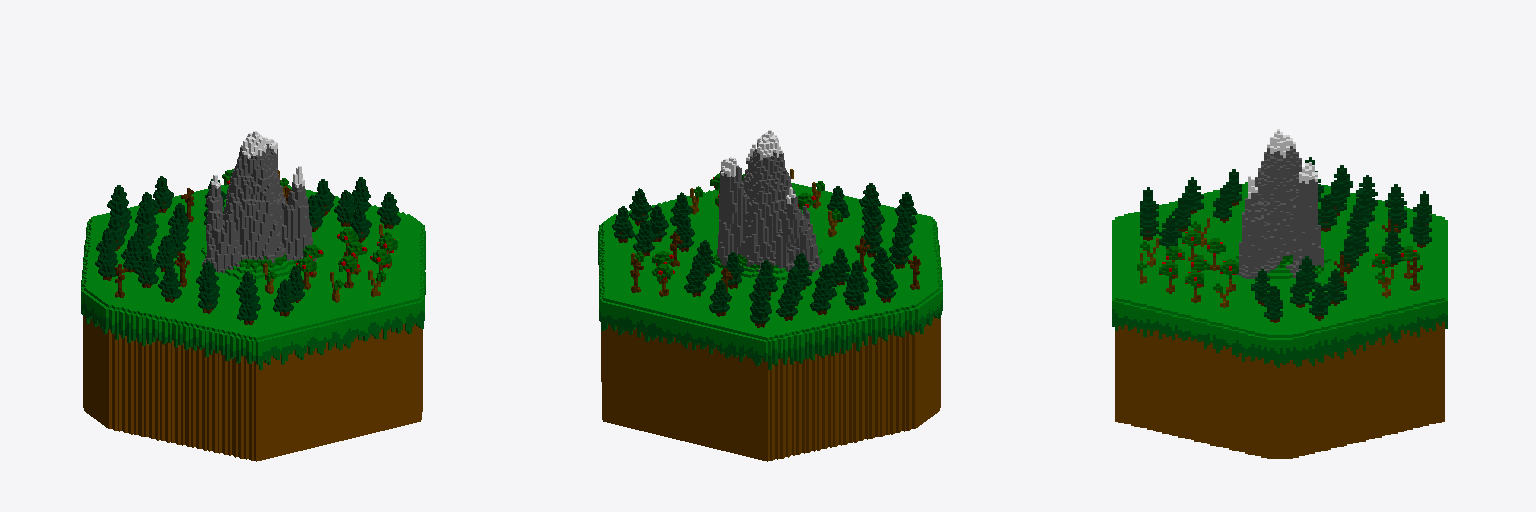
The picture shows the model from 3 angles: view 1: azimuth 30°, elevation 25°; view 2: azimuth 150°, elevation 25°; view 3: azimuth 270°, elevation 25°; orthographic projection.
Visible parts, largest first — view 1: object 1; view 2: object 1; view 3: object 1.
Part boxes in pixels (x1,y1,x2,y2): object 1: (81, 131, 425, 461); object 1: (598, 130, 942, 461); object 1: (1112, 129, 1447, 458).
Size of the model in its own units: 11.8 by 8.7 by 10.6.
Materials: 1 (1 with a texture image).